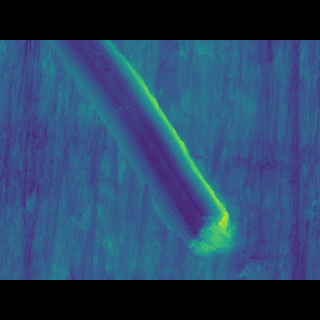Loch: (42, 68, 245, 235)
